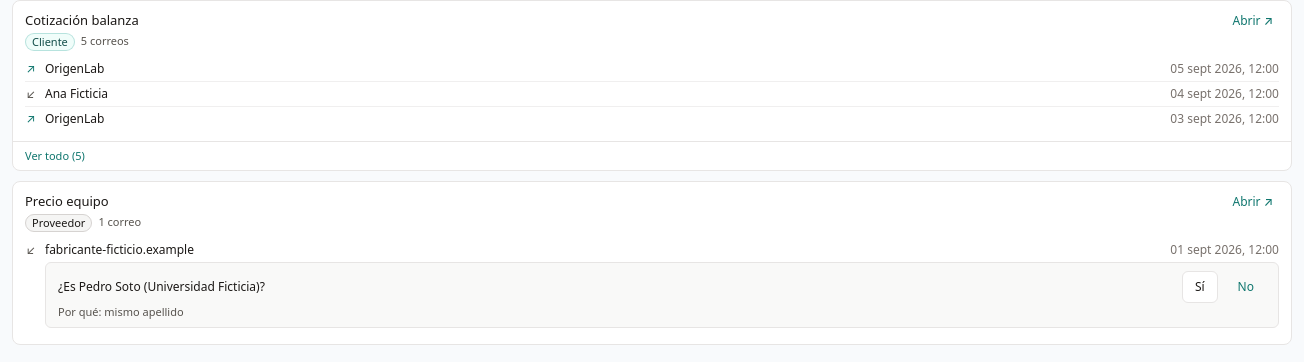
Test: Correos del caso as cadenas › shows the «¿Es …?» guess under the sender, and «Sí» posts the answer and clears it
Expected: the element with test id "person-guess" shows "¿Es Pedro Soto (Universidad Ficticia)?", [58,278,265,294]
Click the button "Sí": (1200, 286) [1182,270,1218,302]
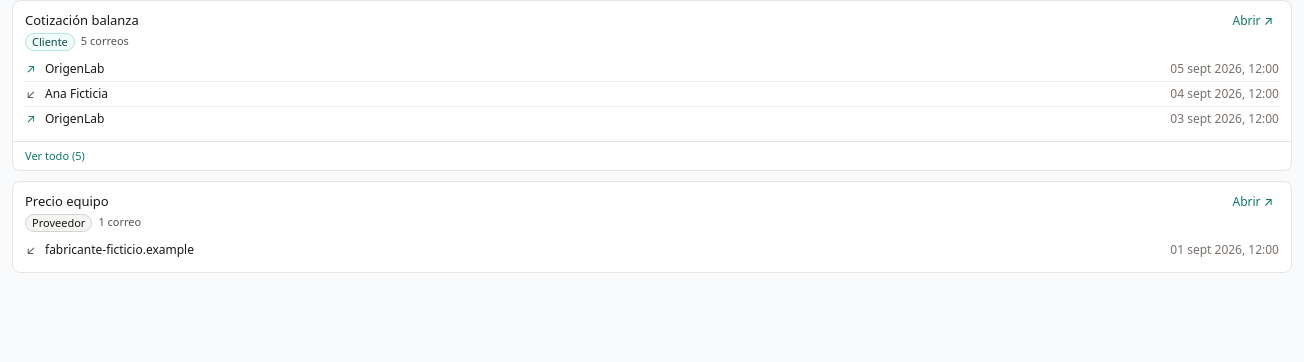
Result: the element with test id "person-guess" is gone
